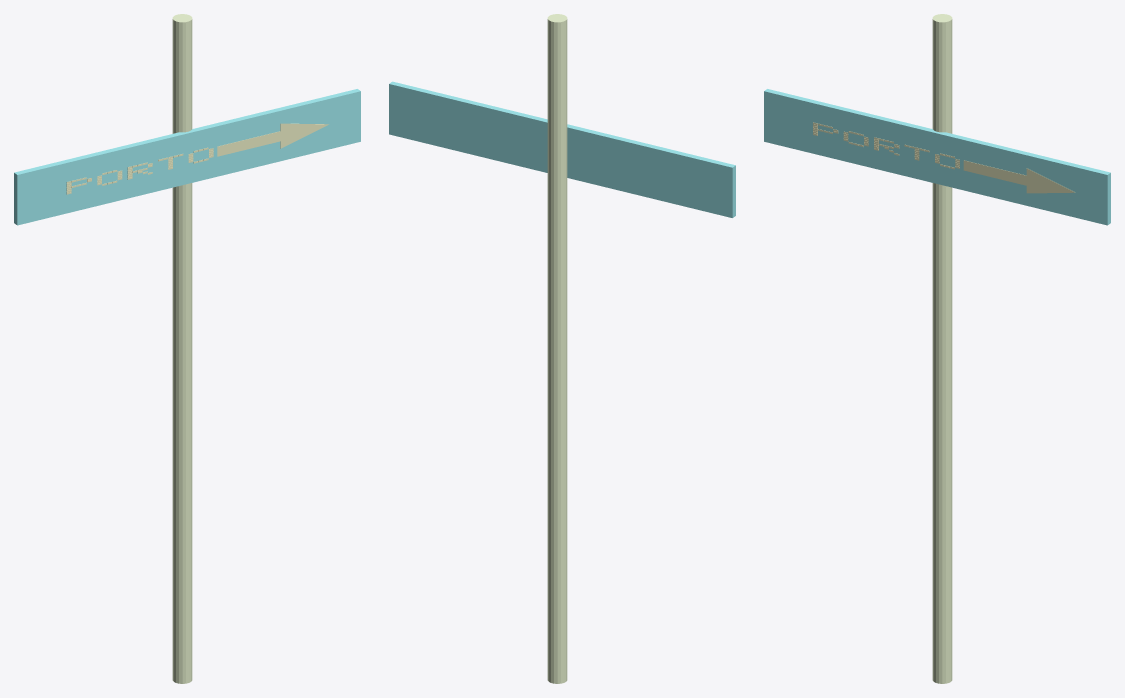
Rendered from sign_porto_arrow_right.glb.
The picture shows the model from 3 angles, left to right: view 1: azimuth 30°, elevation 25°; view 2: azimuth 150°, elevation 25°; view 3: azimuth 330°, elevation 25°; orthographic projection.
Parts seen in each view (by area): view 1: plate_base_00, pole, layer_1_76, layer_1_77; view 2: plate_base_00, pole; view 3: plate_base_00, pole, layer_1_76, layer_1_77.
Boxes of the visible parts, <box> form: plate_base_00: <box>14,89,360,225</box>; pole: <box>172,14,192,683</box>; layer_1_76: <box>217,131,280,156</box>; layer_1_77: <box>280,123,328,148</box>; plate_base_00: <box>389,81,735,217</box>; pole: <box>547,14,567,683</box>; plate_base_00: <box>764,89,1110,225</box>; pole: <box>932,14,952,683</box>; layer_1_76: <box>963,160,1026,185</box>; layer_1_77: <box>1026,168,1075,193</box>.
Bounding box in the file's own units: 1.2 × 2.2 × 0.071.
